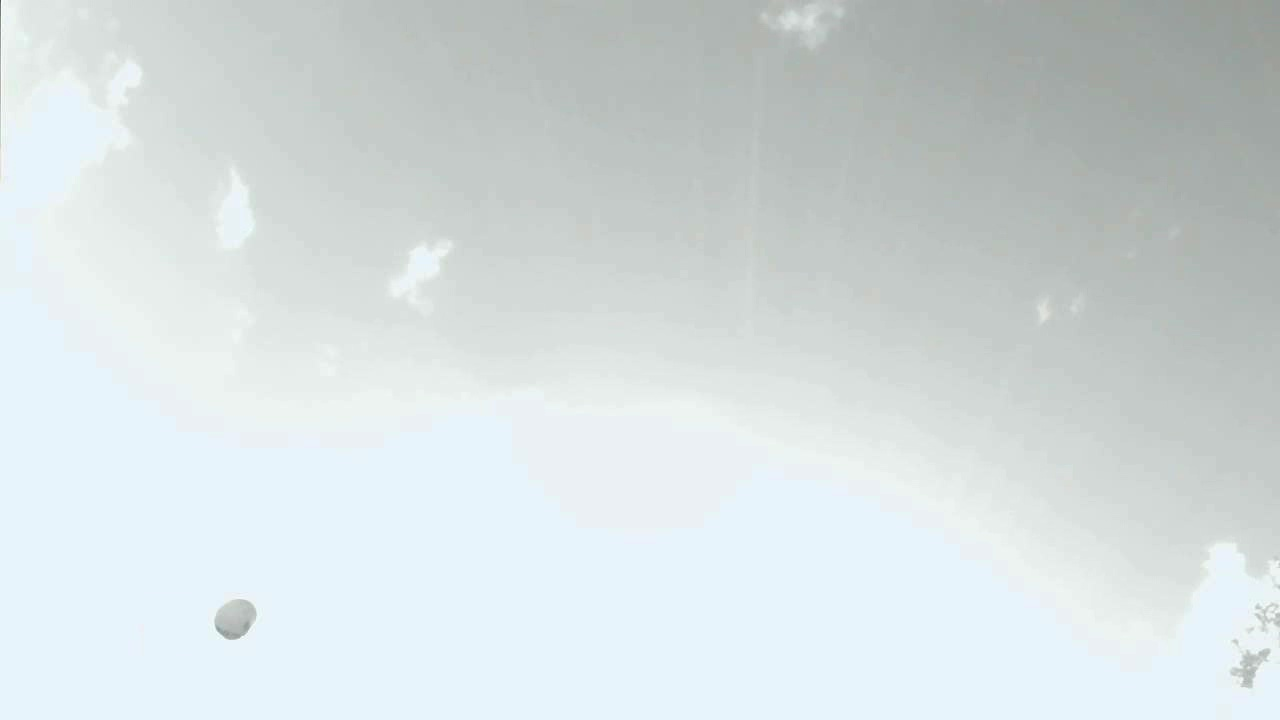Football-Spotter: (215, 598, 256, 639)
